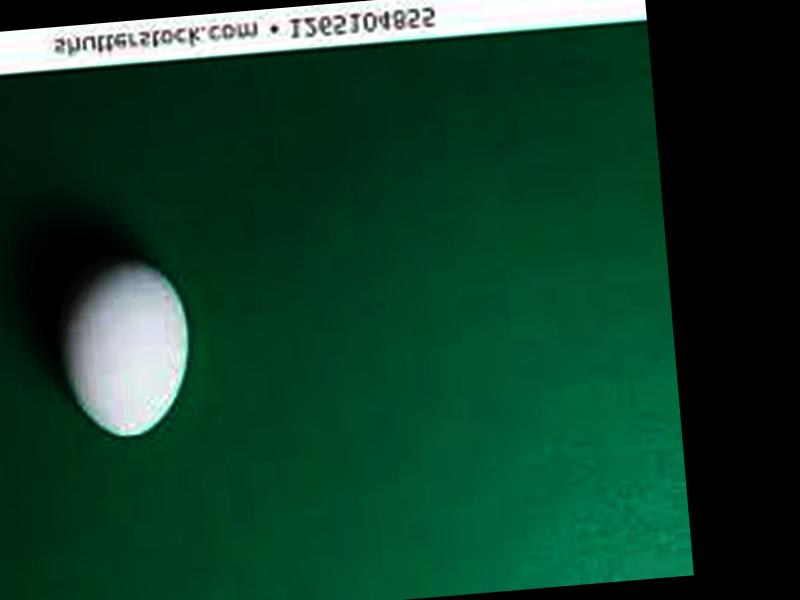Eggs: (55, 249, 202, 440)
